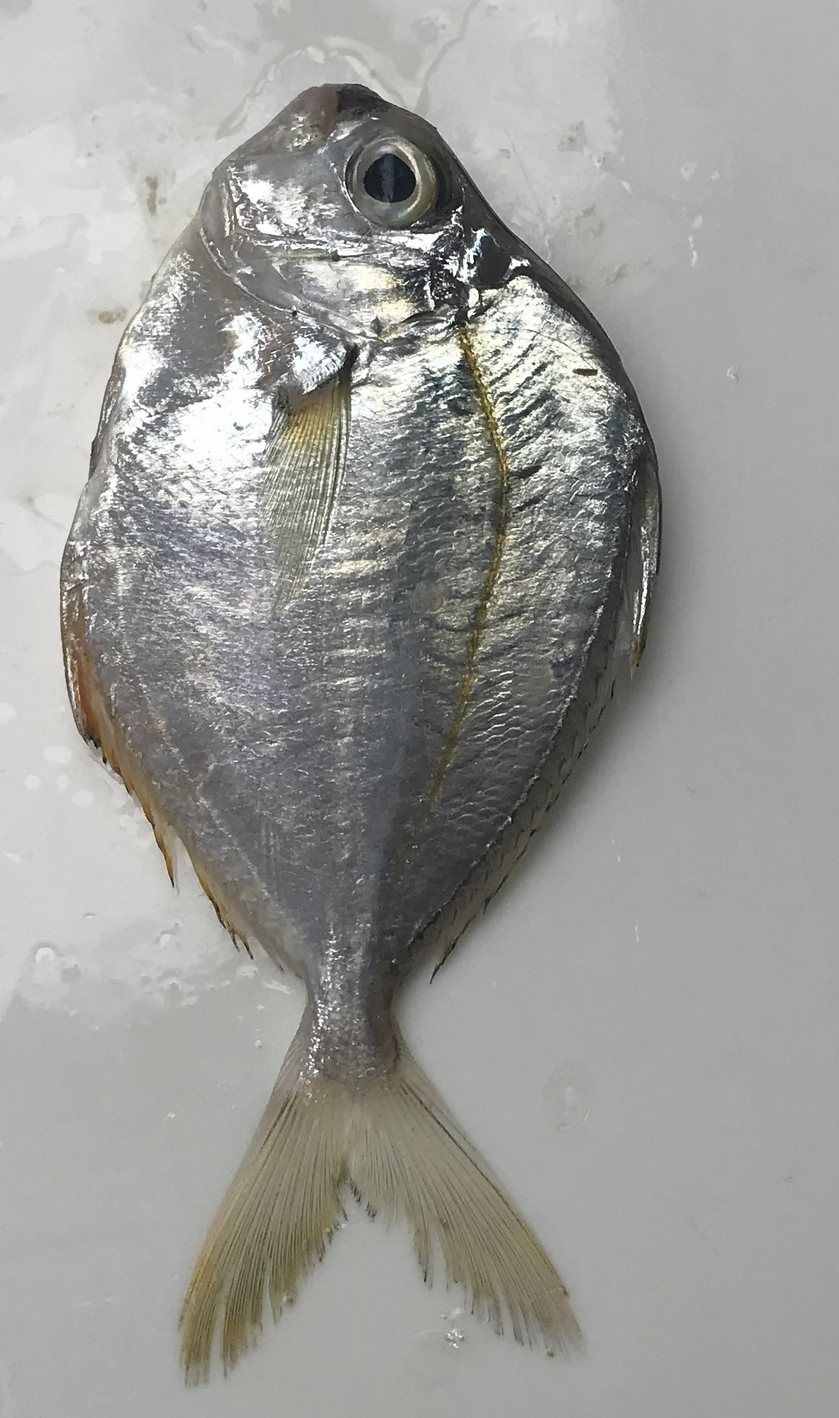sap_sap_not_dried: (60, 84, 694, 1385)
